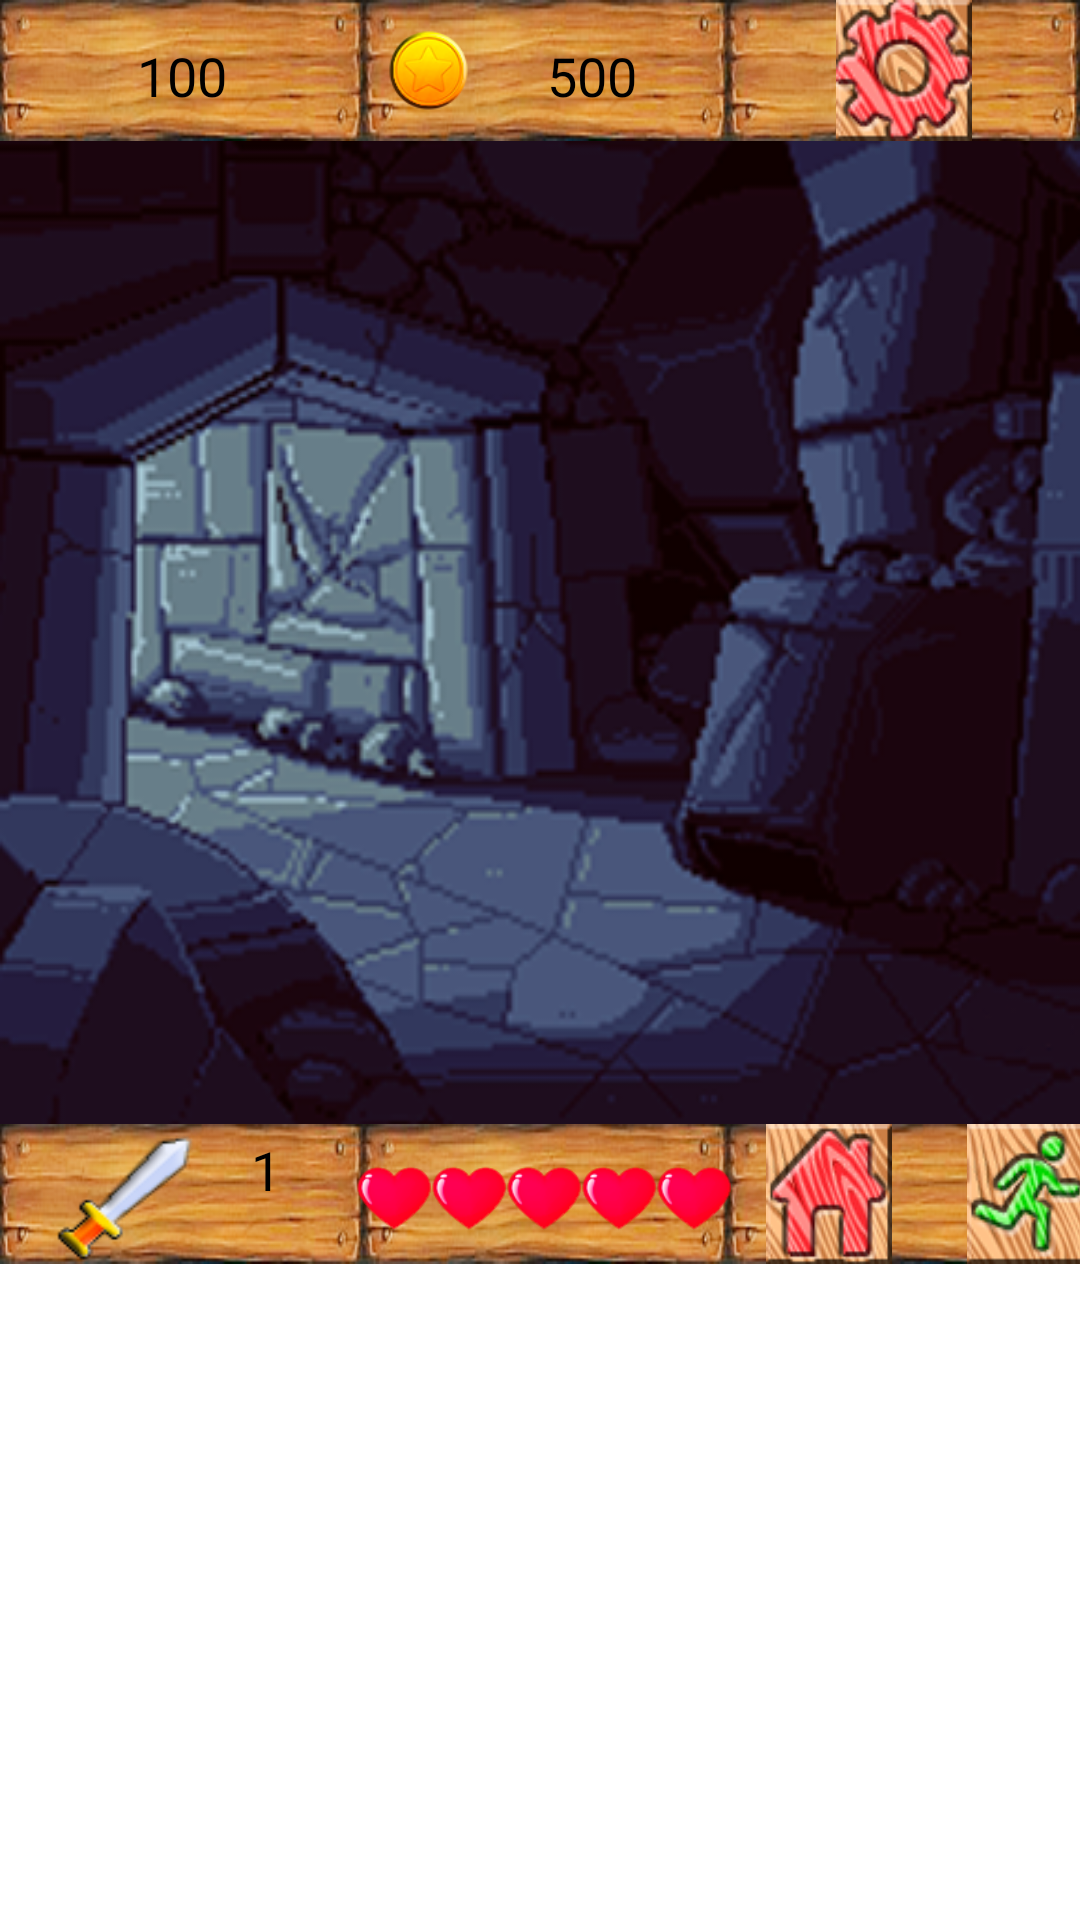

Where to tap for icons on this 1080×1920 app screen, as (x,y):
coin: (428,70)
hfull: (393,1196), (543,1196), (618,1196), (693,1196), (468,1198)
home: (829,1194)
settingsbtn: (904,70)
sword: (121,1194)
